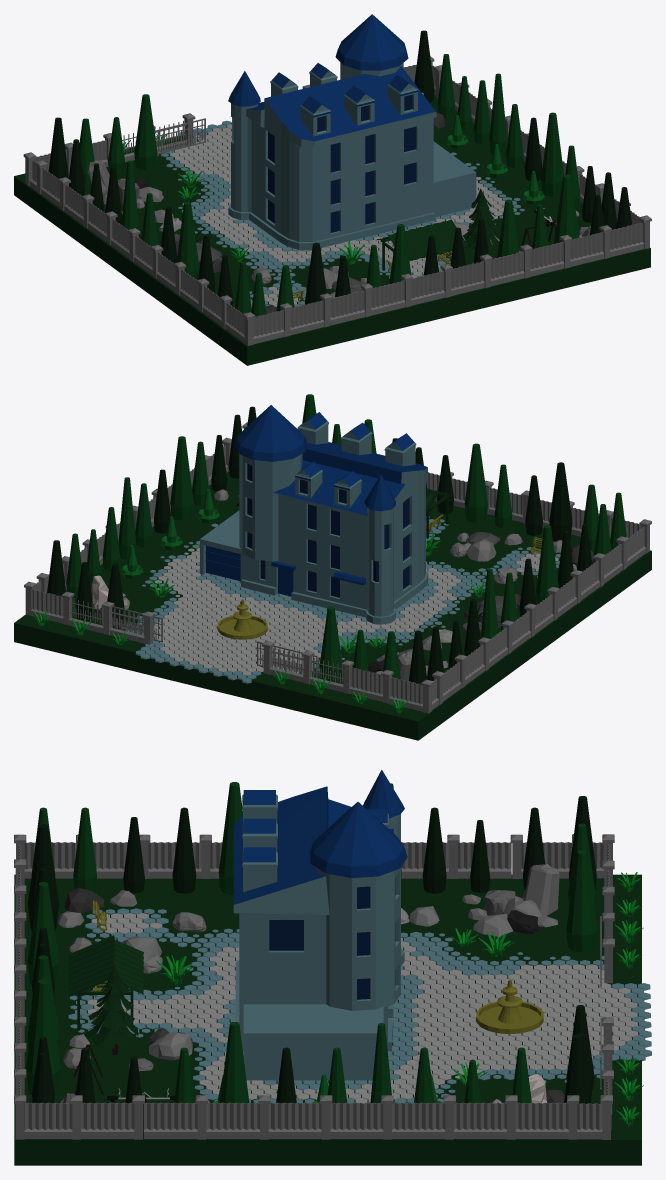
The model's file is Castle.FBX.
3 renders of one model, top to bottom at view 1: azimuth 30°, elevation 25°; view 2: azimuth 150°, elevation 25°; view 3: azimuth 270°, elevation 25°, orthographic. The views are drawn at different scales.
Visible parts, largest first — view 1: Castle; view 2: Castle; view 3: Castle.
Boxes of the visible parts, left/top/right/bottom form: Castle: left=14, top=14, right=651, bottom=365; Castle: left=14, top=394, right=651, bottom=740; Castle: left=14, top=770, right=651, bottom=1165.
Bounding box in the file's own units: 20076 × 9306 × 20321.
